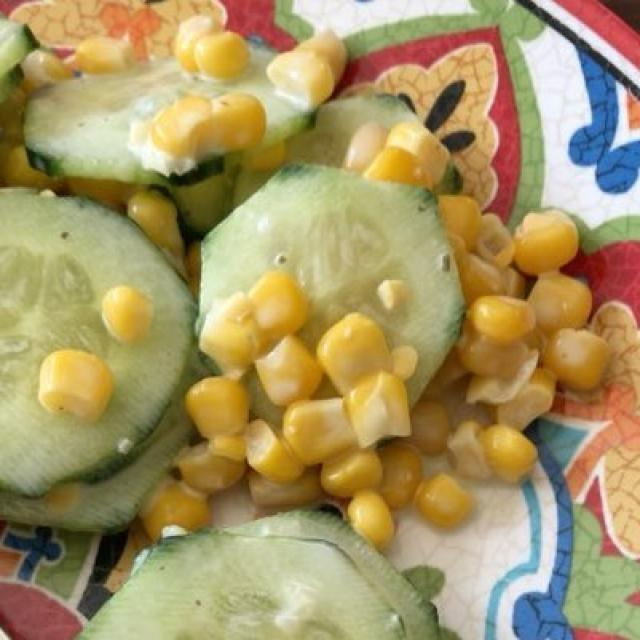cucumber: (6, 36, 471, 633)
sweet-corn-canned: (42, 23, 623, 537)
